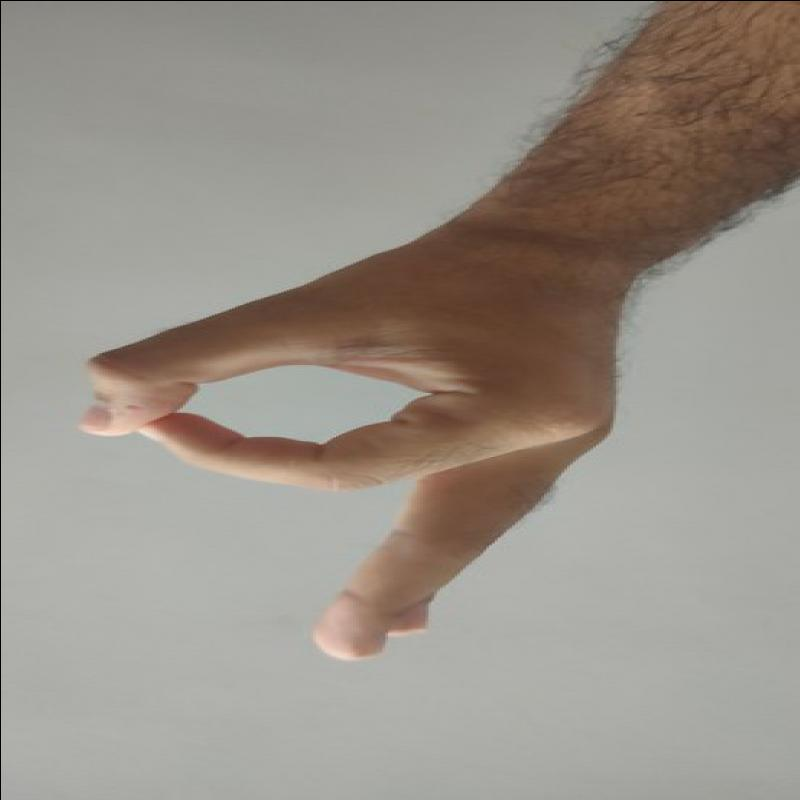Mudraakhyam: (63, 213, 642, 670)
